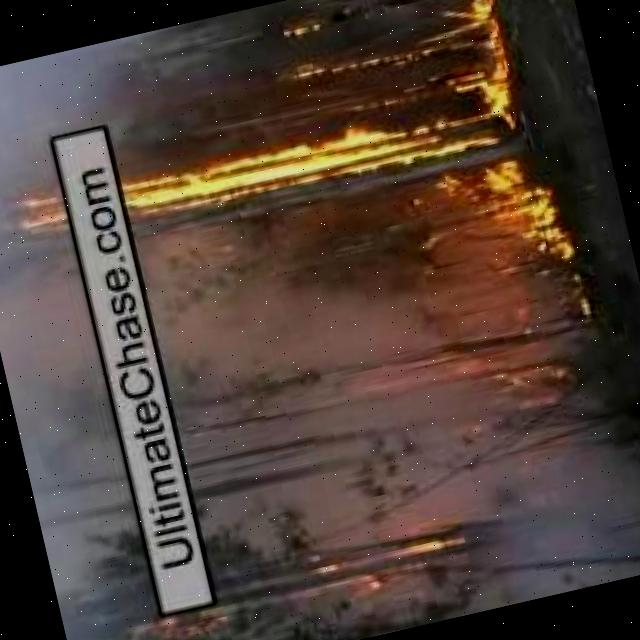fire: (117, 90, 520, 232), (433, 163, 571, 289), (3, 185, 73, 247), (445, 0, 507, 60), (467, 56, 524, 120)
